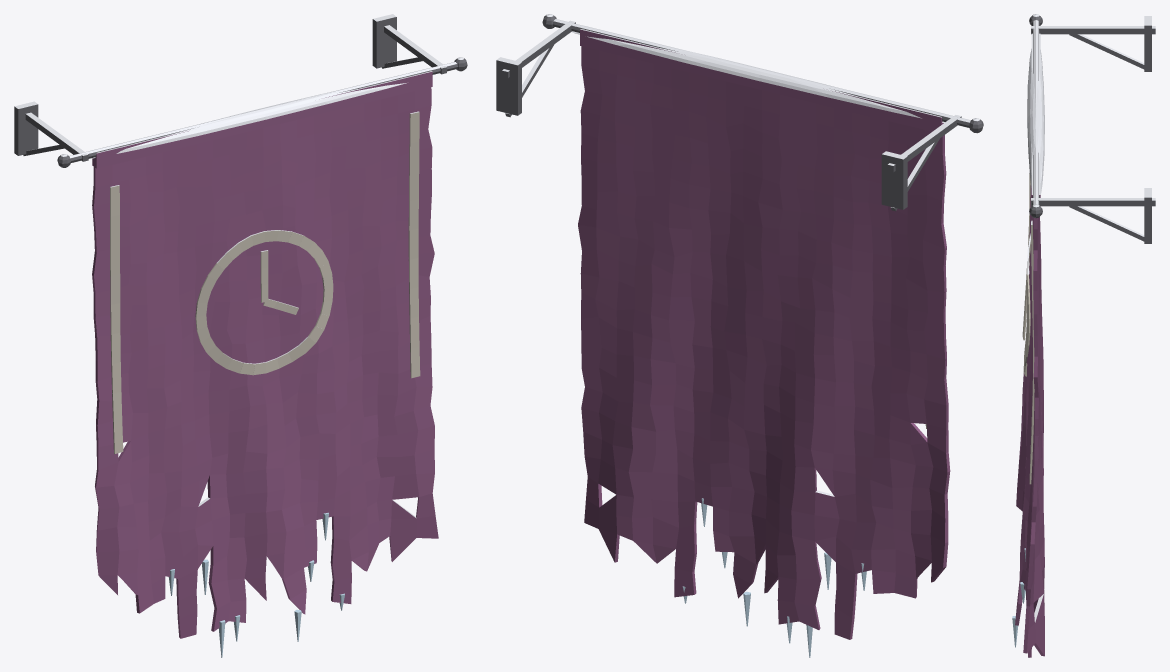
The model's file is PR_Estandarte_Colunata_C.fbx.
The picture shows the model from 3 angles, left to right: view 1: azimuth 30°, elevation 25°; view 2: azimuth 150°, elevation 25°; view 3: azimuth 270°, elevation 25°; orthographic projection. The views are drawn at different scales.
Visible parts, largest first — view 1: PR_Estandarte_Colunata_C; view 2: PR_Estandarte_Colunata_C; view 3: PR_Estandarte_Colunata_C.
Boxes of the visible parts, box(x1,y1,x2,y2) form: PR_Estandarte_Colunata_C: box(14, 14, 467, 657); PR_Estandarte_Colunata_C: box(496, 14, 983, 657); PR_Estandarte_Colunata_C: box(1012, 14, 1155, 657).
Bounding box in the file's own units: 3.65 × 4.63 × 1.13.
